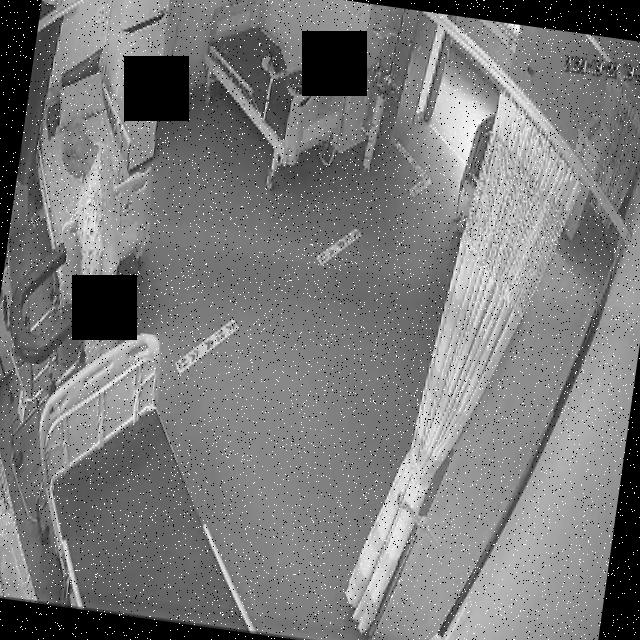bed: (15, 322, 292, 632), (16, 55, 176, 301), (189, 0, 361, 175)
patient: (39, 108, 145, 346)
